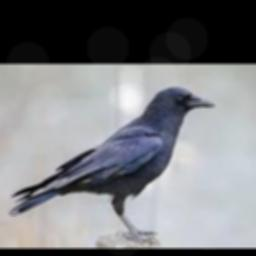Crow: (7, 86, 214, 244)
